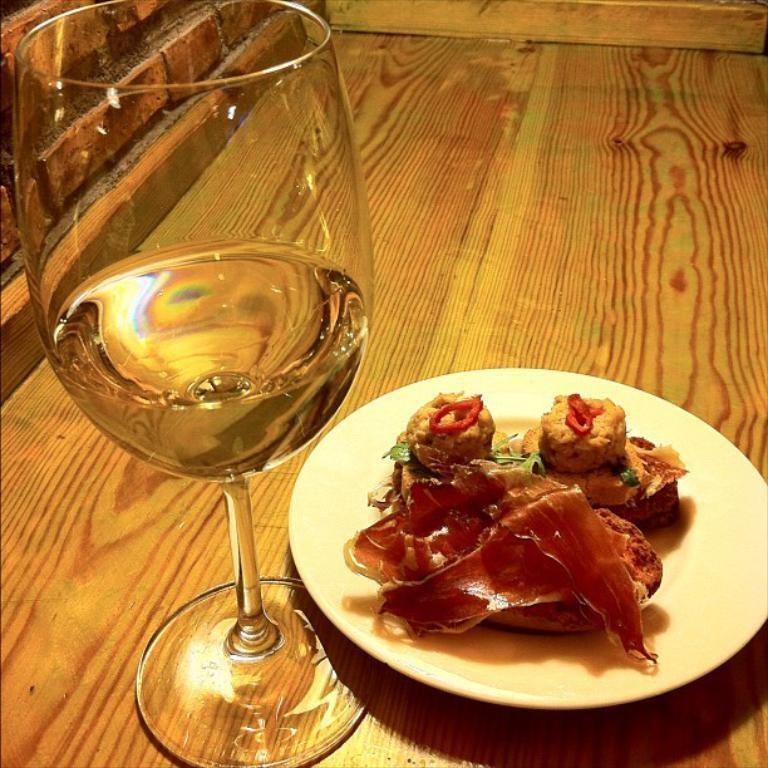glass-wine: (0, 0, 377, 767)
